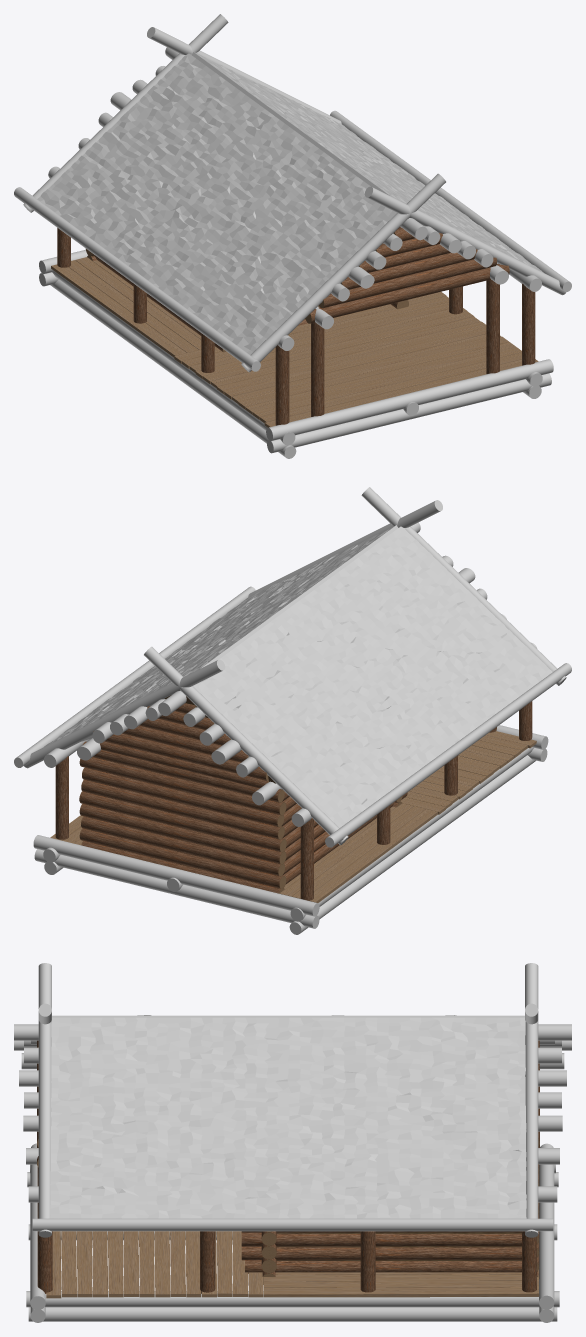
Rendered from izbushka.fbx.
The picture shows the model from 3 angles, top to bottom: view 1: azimuth 30°, elevation 25°; view 2: azimuth 150°, elevation 25°; view 3: azimuth 270°, elevation 25°; orthographic projection. The views are drawn at different scales.
Parts seen in each view (by area): view 1: Куб.003, Куб.002, Цилиндр.003, Цилиндр.014, Цилиндр, Цилиндр.017, Цилиндр.008, Цилиндр.015, Цилиндр.016, Цилиндр.022, Цилиндр.023, Цилиндр.041 (+26 smaller); view 2: Куб.003, Куб.002, Цилиндр.006, Цилиндр.014, Цилиндр.001, Цилиндр.041, Цилиндр.008, Цилиндр.045, Цилиндр.042, Цилиндр.044, Цилиндр.043, Цилиндр.046 (+19 smaller); view 3: Куб.002, Цилиндр.005, Цилиндр.015, Цилиндр.002, Цилиндр.050, Цилиндр.051, Цилиндр.016, Цилиндр.040, Цилиндр.020, Куб.049, Цилиндр.006, Куб.047 (+31 smaller).
Boxes of the visible parts, <box> form: Куб.003: <box>37,53,396,354</box>; Куб.002: <box>192,52,543,272</box>; Цилиндр.003: <box>266,359,553,441</box>; Цилиндр.014: <box>14,187,260,371</box>; Цилиндр: <box>267,373,551,453</box>; Цилиндр.017: <box>241,173,445,372</box>; Цилиндр.008: <box>50,279,296,458</box>; Цилиндр.015: <box>330,110,571,291</box>; Цилиндр.016: <box>364,186,566,295</box>; Цилиндр.022: <box>305,263,509,323</box>; Цилиндр.023: <box>319,257,496,308</box>; Цилиндр.041: <box>23,14,228,212</box>; Куб.003: <box>193,526,552,827</box>; Куб.002: <box>44,525,397,746</box>; Цилиндр.006: <box>33,835,319,916</box>; Цилиндр.014: <box>325,663,571,847</box>; Цилиндр.001: <box>34,849,319,928</box>; Цилиндр.041: <box>144,646,348,845</box>; Цилиндр.008: <box>289,755,535,934</box>; Цилиндр.045: <box>79,791,286,852</box>; Цилиндр.042: <box>79,828,286,888</box>; Цилиндр.044: <box>79,804,286,864</box>; Цилиндр.043: <box>81,816,285,876</box>; Цилиндр.046: <box>81,779,284,839</box>; Куб.002: <box>50,1017,526,1218</box>; Цилиндр.005: <box>28,1307,557,1321</box>; Цилиндр.015: <box>32,1218,553,1231</box>; Цилиндр.002: <box>26,1291,559,1307</box>; Цилиндр.050: <box>241,1246,521,1260</box>; Цилиндр.051: <box>241,1232,521,1246</box>; Цилиндр.016: <box>38,963,51,1237</box>; Цилиндр.040: <box>525,963,538,1237</box>; Цилиндр.020: <box>245,1260,521,1273</box>; Куб.049: <box>264,1287,539,1297</box>; Цилиндр.006: <box>539,1143,554,1309</box>; Куб.047: <box>264,1274,538,1281</box>.
Bounding box in the file's own units: 5535 × 3988 × 7388.
